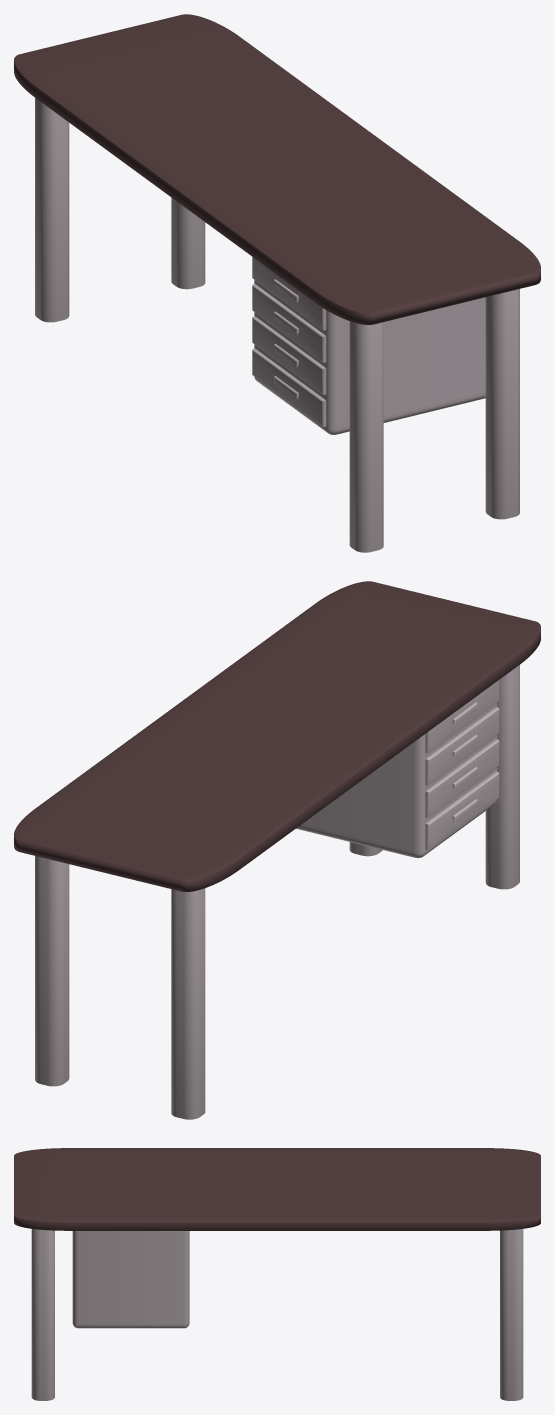
The model's file is Schreibtisch.fbx.
The picture shows the model from 3 angles, top to bottom: view 1: azimuth 30°, elevation 25°; view 2: azimuth 150°, elevation 25°; view 3: azimuth 270°, elevation 25°; orthographic projection. The views are drawn at different scales.
Parts seen in each view (by area): view 1: Cube, Cube.001, Cube.004, Cube.005, Cube.002, Cube.003; view 2: Cube, Cube.001, Cube.002, Cube.003, Cube.004; view 3: Cube, Cube.001, Cube.003, Cube.005.
Part boxes in pixels (x1,y1,x2,y2): Cube: [14, 14, 540, 324]; Cube.001: [252, 257, 485, 434]; Cube.004: [349, 321, 383, 552]; Cube.005: [485, 289, 519, 519]; Cube.002: [35, 98, 69, 322]; Cube.003: [171, 197, 205, 289]; Cube: [14, 581, 540, 891]; Cube.001: [296, 680, 499, 858]; Cube.002: [171, 888, 205, 1119]; Cube.003: [35, 856, 69, 1086]; Cube.004: [485, 665, 519, 889]; Cube: [14, 1148, 540, 1230]; Cube.001: [72, 1231, 189, 1328]; Cube.003: [500, 1229, 523, 1400]; Cube.005: [31, 1229, 54, 1400].
Size of the model in its own units: 60 by 70.5 by 180.
2 materials, 2 textured.
